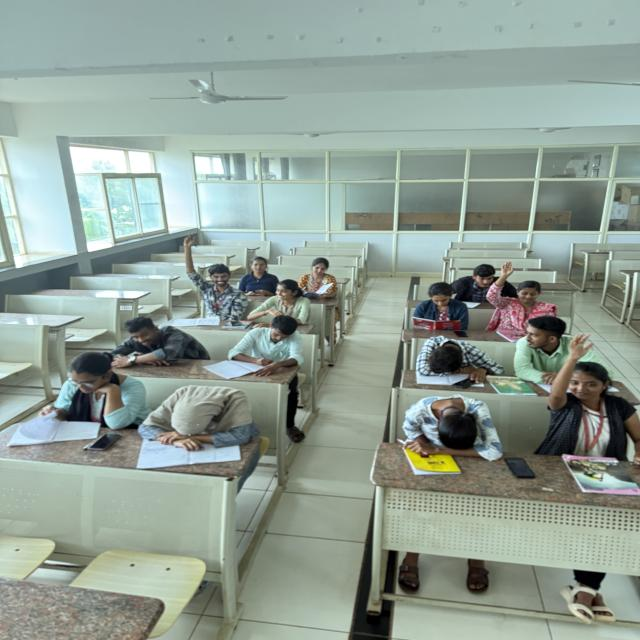Hand Rising: (552, 328, 637, 462), (168, 227, 252, 321), (487, 261, 553, 331)
Reading: (17, 344, 147, 441), (396, 279, 471, 334), (291, 254, 347, 304)
Sleeping: (137, 374, 266, 458), (392, 386, 506, 463), (90, 310, 215, 376), (407, 329, 508, 390)
Using Phone: (235, 251, 279, 299)
Writing: (212, 309, 310, 374)
